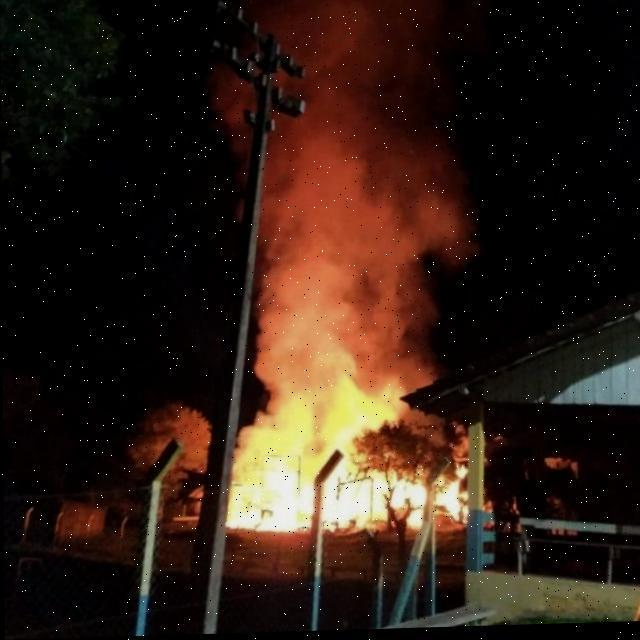Fire: (236, 384, 468, 536)
